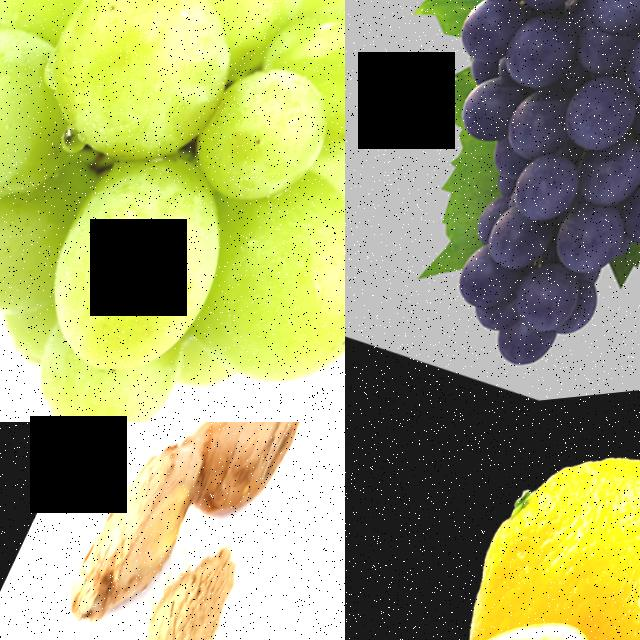ginger: (51, 423, 224, 640), (172, 422, 333, 542)
grapes: (0, 0, 345, 422), (345, 0, 640, 422)
lemon: (453, 422, 640, 640), (345, 586, 640, 640)
